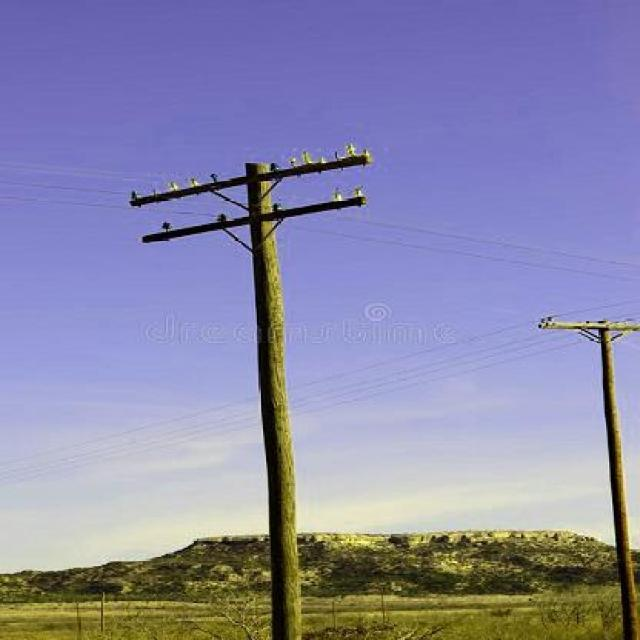light_pole: (122, 142, 390, 290), (534, 304, 638, 402)
